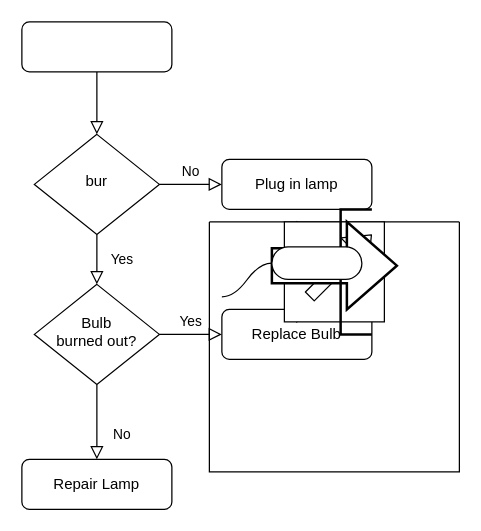
Image size: 481x531. Some labels were removed from this diagram. The centre of each missing label's shape, as x and y in pixels:
iniy: [96,46]
Sub Topic: [316,262]
